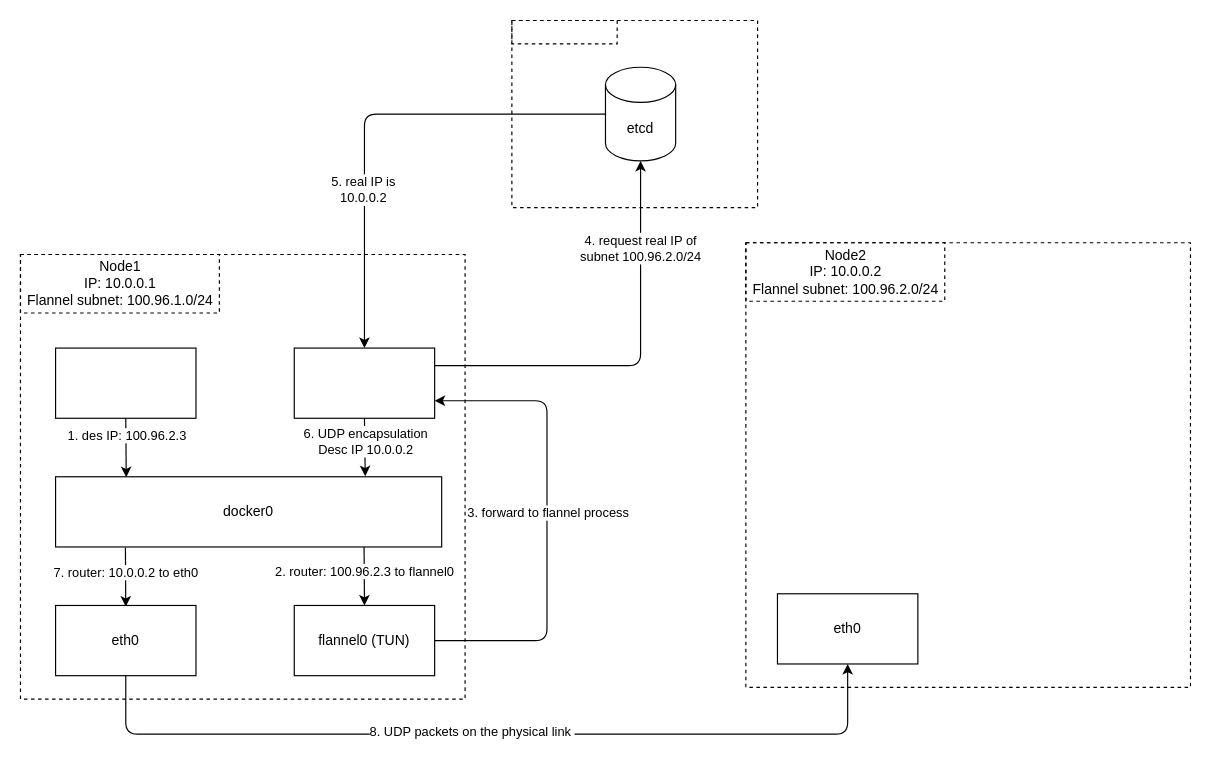
The diagram is 1211 pixels wide and 764 high, and some of its shapes have lost their labels. Here are the shapes that lost their labels. From the top down, the centre of each, then its label:
At point 564,31: "Control panel".
At point 125,382: "Pod".
At point 364,382: "Flannel Process".
